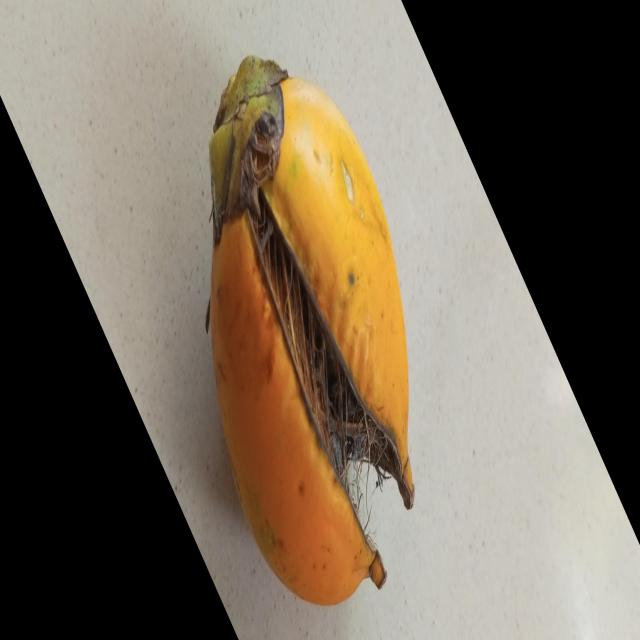damaged: (206, 56, 415, 605)
